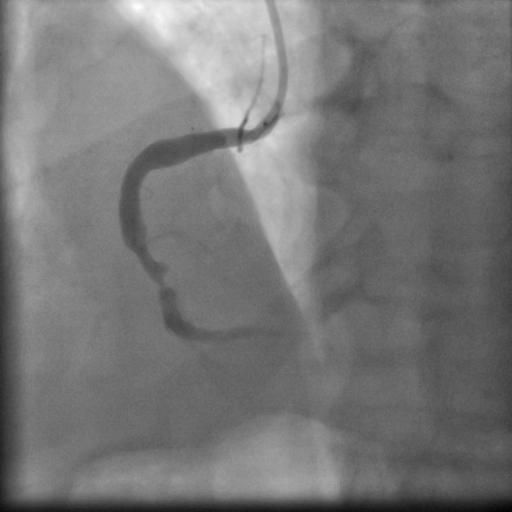Stenosis: (150, 272, 178, 299)
